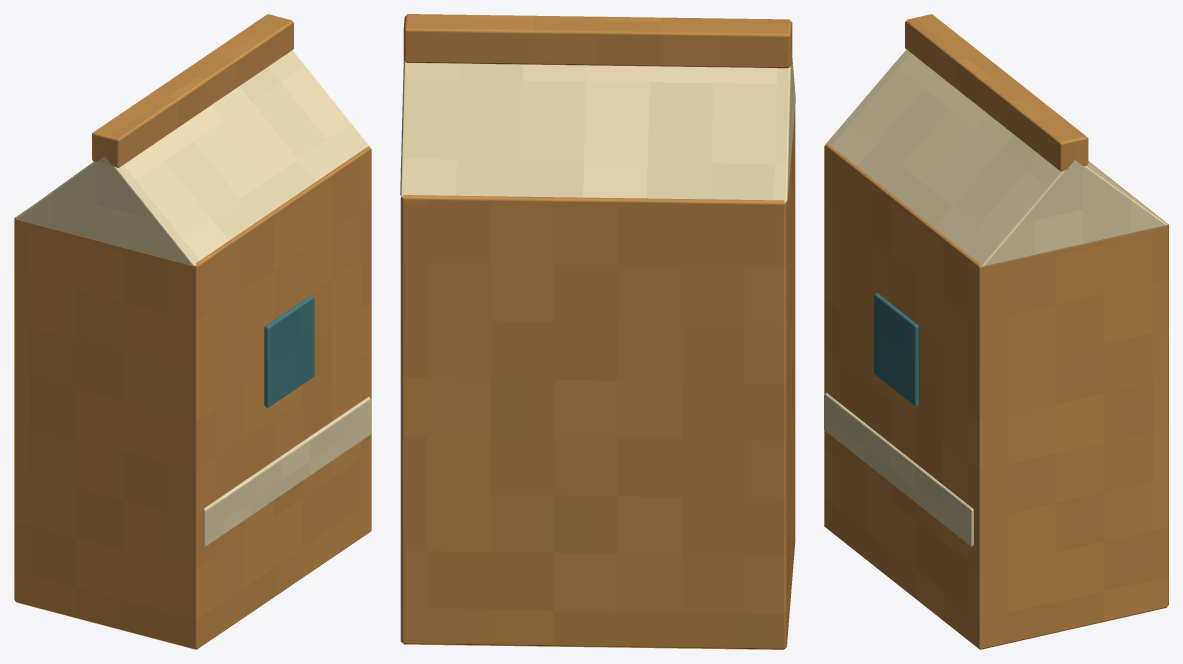
The model's file is OchreWashBox.glb.
3 views of the same model, side by side, from view 1: azimuth 30°, elevation 25°; view 2: azimuth 150°, elevation 25°; view 3: azimuth 270°, elevation 25° (orthographic). The views are drawn at different scales.
Visible parts, largest first — view 1: OchreWashBox.Carton, OchreWashBox.Gable-fold, OchreWashBox.Top-seam, OchreWashBox.Band, OchreWashBox.Badge; view 2: OchreWashBox.Carton, OchreWashBox.Gable-fold, OchreWashBox.Top-seam; view 3: OchreWashBox.Carton, OchreWashBox.Gable-fold, OchreWashBox.Top-seam, OchreWashBox.Band, OchreWashBox.Badge.
Boxes of the visible parts, left/top/right/bottom form: OchreWashBox.Carton: left=14, top=146, right=371, bottom=649; OchreWashBox.Gable-fold: left=16, top=50, right=370, bottom=265; OchreWashBox.Top-seam: left=92, top=14, right=293, bottom=167; OchreWashBox.Band: left=203, top=396, right=371, bottom=546; OchreWashBox.Badge: left=264, top=295, right=314, bottom=408; OchreWashBox.Carton: left=400, top=108, right=795, bottom=649; OchreWashBox.Gable-fold: left=400, top=51, right=795, bottom=202; OchreWashBox.Top-seam: left=403, top=14, right=792, bottom=68; OchreWashBox.Carton: left=824, top=143, right=1168, bottom=649; OchreWashBox.Gable-fold: left=826, top=49, right=1167, bottom=266; OchreWashBox.Top-seam: left=905, top=14, right=1088, bottom=171; OchreWashBox.Band: left=824, top=393, right=973, bottom=546; OchreWashBox.Badge: left=874, top=293, right=919, bottom=406.
Size of the model in its own units: 0.2325 by 0.3212 by 0.2047.
3 materials, 3 textured.
